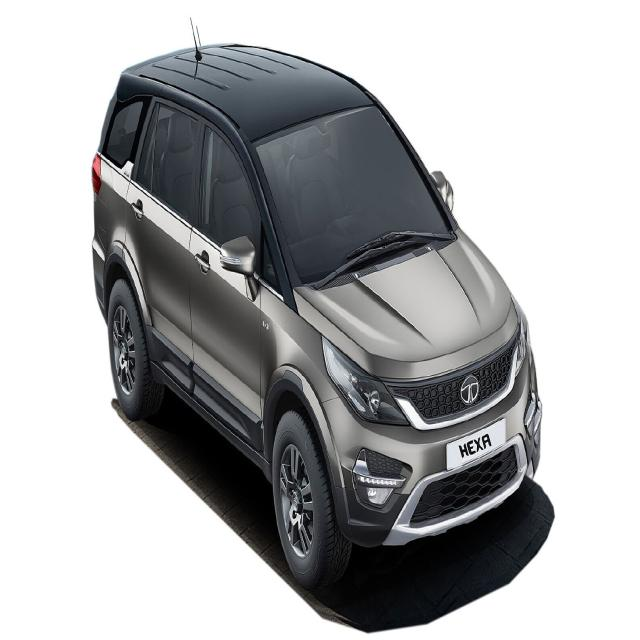Car: (87, 27, 547, 569)
